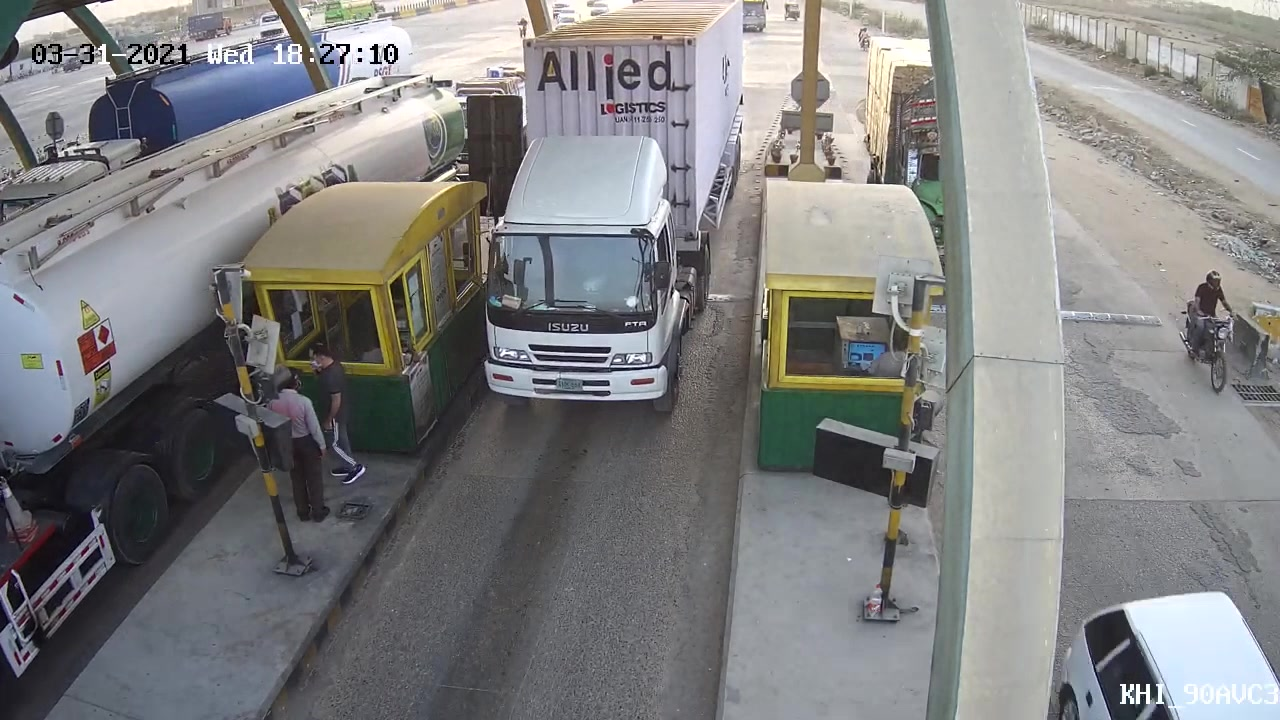F6: (462, 1, 757, 418)
